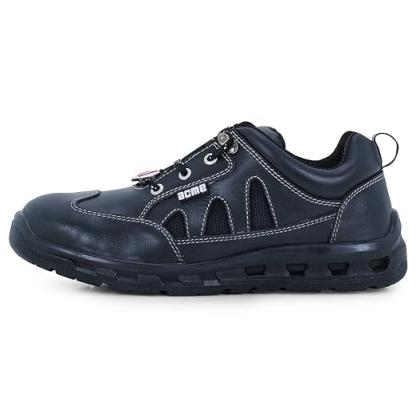bota: (4, 114, 416, 300)
